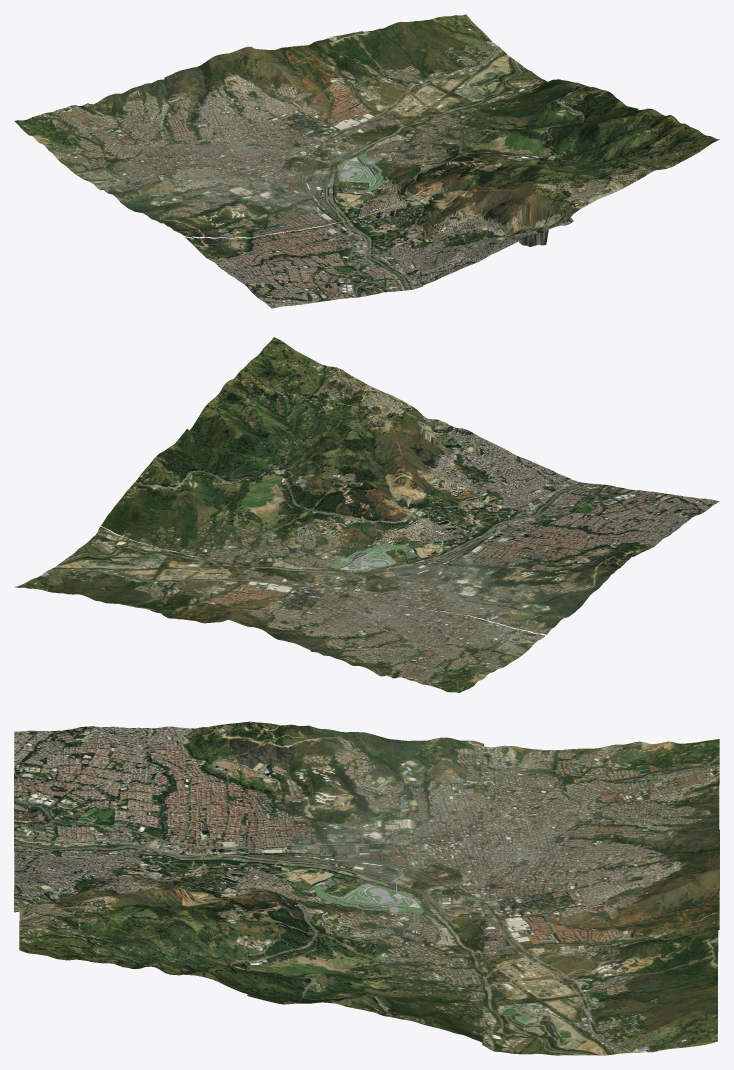
The model's file is PistaCompleta.fbx.
3 renders of one model, top to bottom at view 1: azimuth 30°, elevation 25°; view 2: azimuth 150°, elevation 25°; view 3: azimuth 270°, elevation 25°, orthographic. The views are drawn at different scales.
Parts seen in each view (by area): view 1: Location_Terrain_3, Location_Terrain_1, Location_Terrain_4, Location_Terrain_6, Location_Terrain_7, Location_Terrain_5, Location_Terrain_8, Location_Terrain, Location_Terrain_2; view 2: Location_Terrain_8, Location_Terrain_2, Location_Terrain_1, Location_Terrain, Location_Terrain_5, Location_Terrain_6, Location_Terrain_7, Location_Terrain_4, Location_Terrain_3; view 3: Location_Terrain_7, Location_Terrain_5, Location_Terrain_4, Location_Terrain_3, Location_Terrain_6, Location_Terrain, Location_Terrain_2, Location_Terrain_8, Location_Terrain_1.
Part boxes in pixels (<box>): Location_Terrain_3: <box>164,41,402,158</box>; Location_Terrain_1: <box>336,163,573,285</box>; Location_Terrain_4: <box>315,14,547,123</box>; Location_Terrain_6: <box>14,79,250,190</box>; Location_Terrain_7: <box>185,223,422,308</box>; Location_Terrain_5: <box>99,159,337,237</box>; Location_Terrain_8: <box>483,108,719,218</box>; Location_Terrain: <box>250,123,487,222</box>; Location_Terrain_2: <box>403,79,638,163</box>; Location_Terrain_8: <box>187,337,422,482</box>; Location_Terrain_2: <box>101,429,335,569</box>; Location_Terrain_1: <box>336,415,570,541</box>; Location_Terrain: <box>249,482,482,605</box>; Location_Terrain_5: <box>398,541,632,634</box>; Location_Terrain_6: <box>310,605,545,692</box>; Location_Terrain_7: <box>487,479,719,556</box>; Location_Terrain_4: <box>14,526,246,614</box>; Location_Terrain_3: <box>162,569,396,650</box>; Location_Terrain_7: <box>14,722,248,852</box>; Location_Terrain_5: <box>248,721,483,853</box>; Location_Terrain_4: <box>482,929,718,1055</box>; Location_Terrain_3: <box>484,829,719,953</box>; Location_Terrain_6: <box>484,739,719,852</box>; Location_Terrain: <box>249,851,484,953</box>; Location_Terrain_2: <box>247,920,482,1042</box>; Location_Terrain_8: <box>19,895,254,995</box>; Location_Terrain_1: <box>14,850,249,919</box>.
Size of the model in its own units: 5982 by 982 by 5948.
